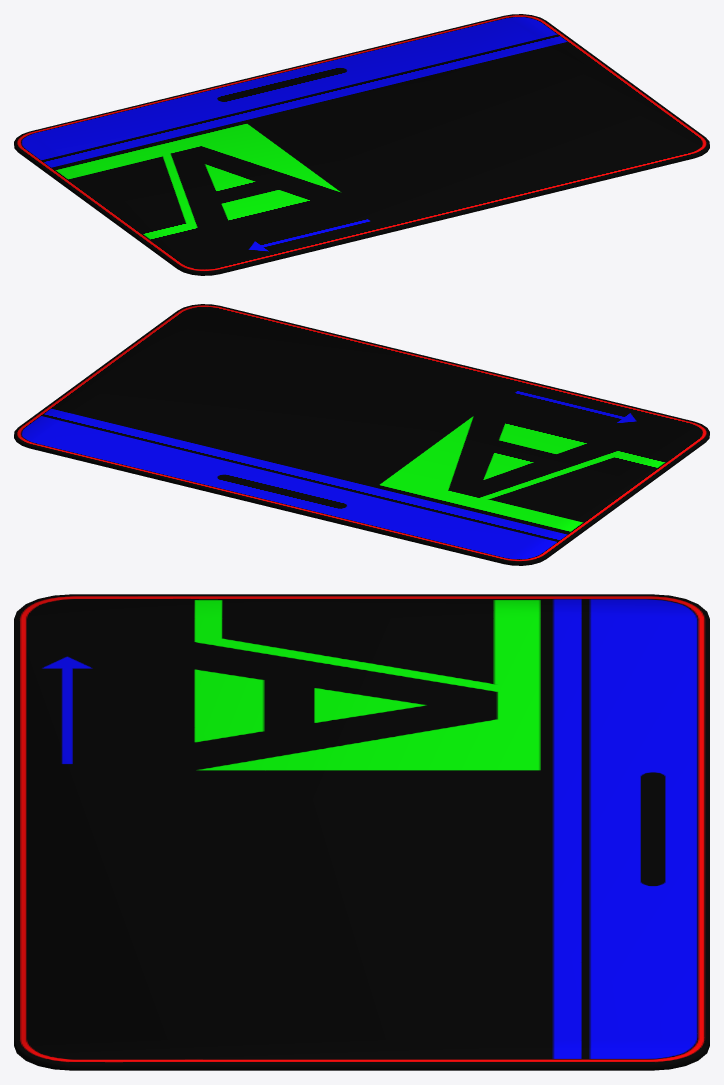
Rendered from Card1.fbx.
The picture shows the model from 3 angles, top to bottom: view 1: azimuth 30°, elevation 25°; view 2: azimuth 150°, elevation 25°; view 3: azimuth 270°, elevation 25°; orthographic projection. The views are drawn at different scales.
Parts seen in each view (by area): view 1: SM_AccessCard; view 2: SM_AccessCard; view 3: SM_AccessCard.
Boxes of the visible parts, x1,y1,x2,y2 form: SM_AccessCard: (14, 14, 709, 275); SM_AccessCard: (14, 304, 709, 565); SM_AccessCard: (14, 594, 709, 1070).
Size of the model in its own units: 9.28 by 0.0602 by 5.8.
